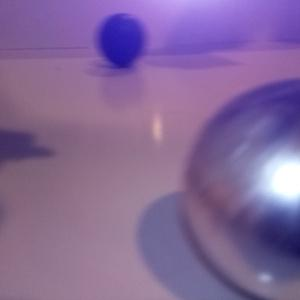alive_ball: (184, 79, 300, 300)
dead_ball: (97, 13, 146, 66)
